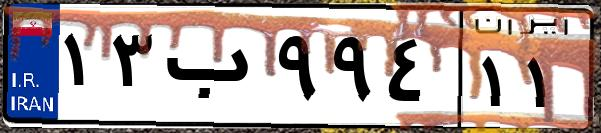1: (57, 26, 110, 100), (475, 38, 525, 113), (525, 38, 570, 115)
3: (110, 28, 158, 98)
4: (385, 28, 445, 110)
9: (270, 28, 330, 110), (330, 28, 385, 110)
ب: (158, 20, 270, 120)
